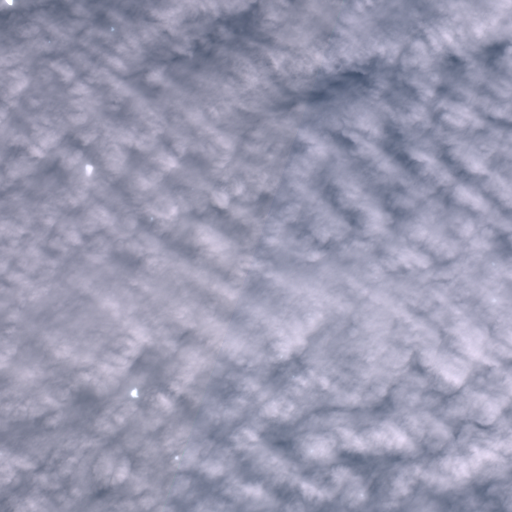Iceberg: (85, 164, 92, 176), (130, 388, 138, 397), (5, 0, 12, 4), (175, 456, 178, 459), (111, 27, 113, 30)
